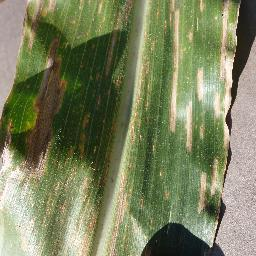Gray_Leaf_Spot: (214, 0, 245, 207), (0, 114, 57, 215), (67, 230, 226, 254), (33, 39, 77, 114), (125, 56, 155, 145), (102, 2, 136, 78), (166, 0, 182, 134), (104, 187, 133, 256), (29, 183, 77, 220), (14, 0, 54, 44), (12, 224, 44, 256), (0, 102, 13, 179), (180, 96, 196, 155), (197, 168, 214, 215), (75, 176, 94, 207), (82, 111, 93, 158), (63, 145, 83, 165), (196, 62, 203, 105), (183, 25, 195, 45), (198, 117, 207, 143), (160, 188, 172, 203), (77, 0, 91, 9), (197, 0, 207, 11), (80, 134, 87, 136)
